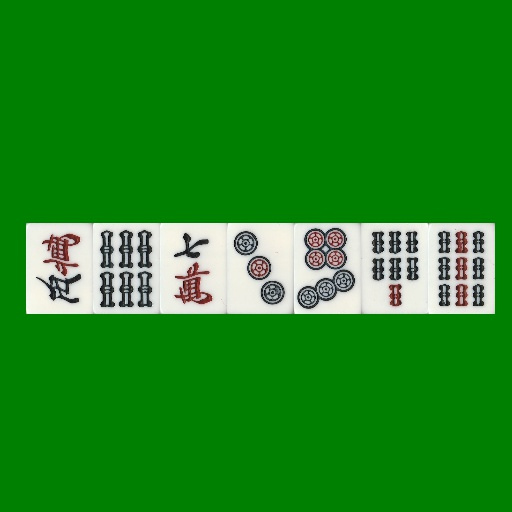3p: (227, 223, 294, 314)
5m: (26, 223, 93, 314)
6s: (93, 223, 160, 314)
7m: (160, 223, 227, 314)
7p: (294, 223, 361, 314)
7s: (361, 223, 428, 314)
9s: (428, 223, 495, 314)
